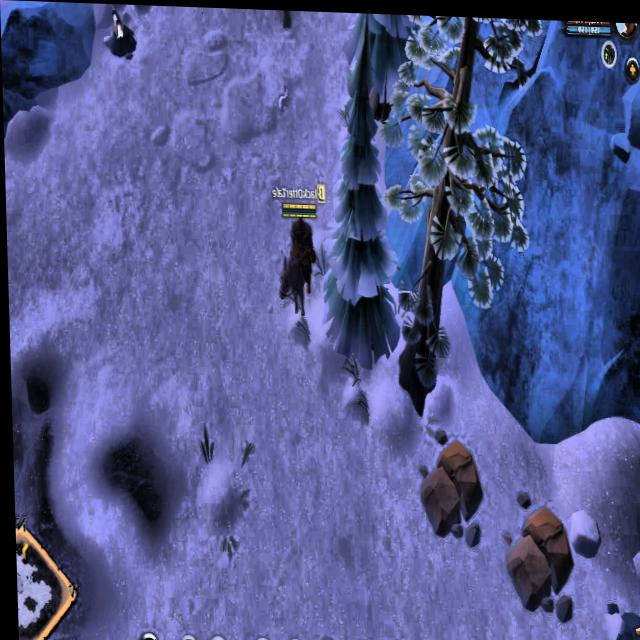copperore: (106, 7, 137, 55), (608, 599, 640, 640)
limestone: (501, 497, 573, 622), (417, 434, 482, 548)
